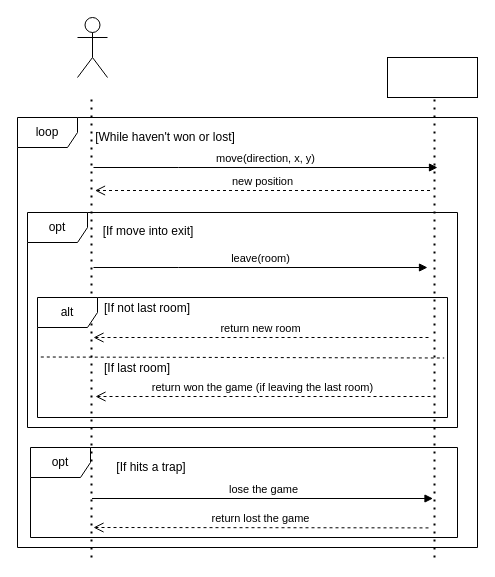
This 495x577 diagram has some shape labels left out. Each missing label, with the centre of its shape:
:Player: point 92,47
:System: point 432,77
